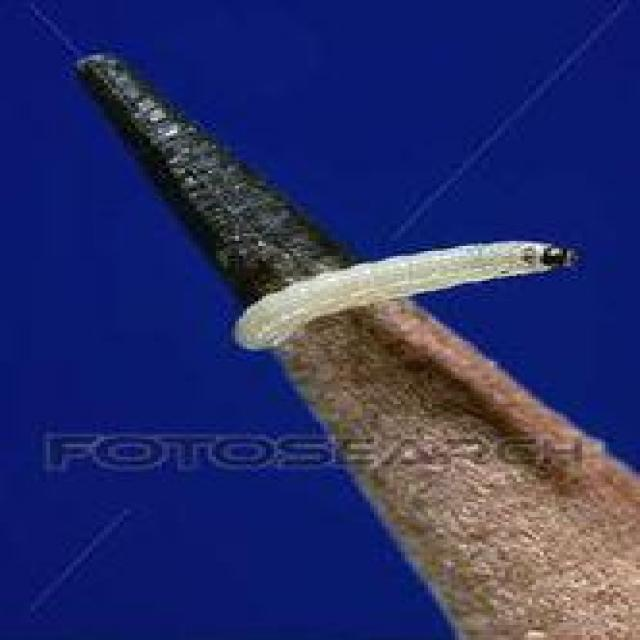BeetArmyWorm-Larva-: (214, 229, 552, 365)
